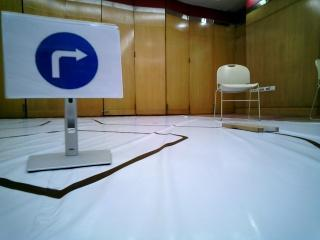right: (5, 17, 117, 99)
